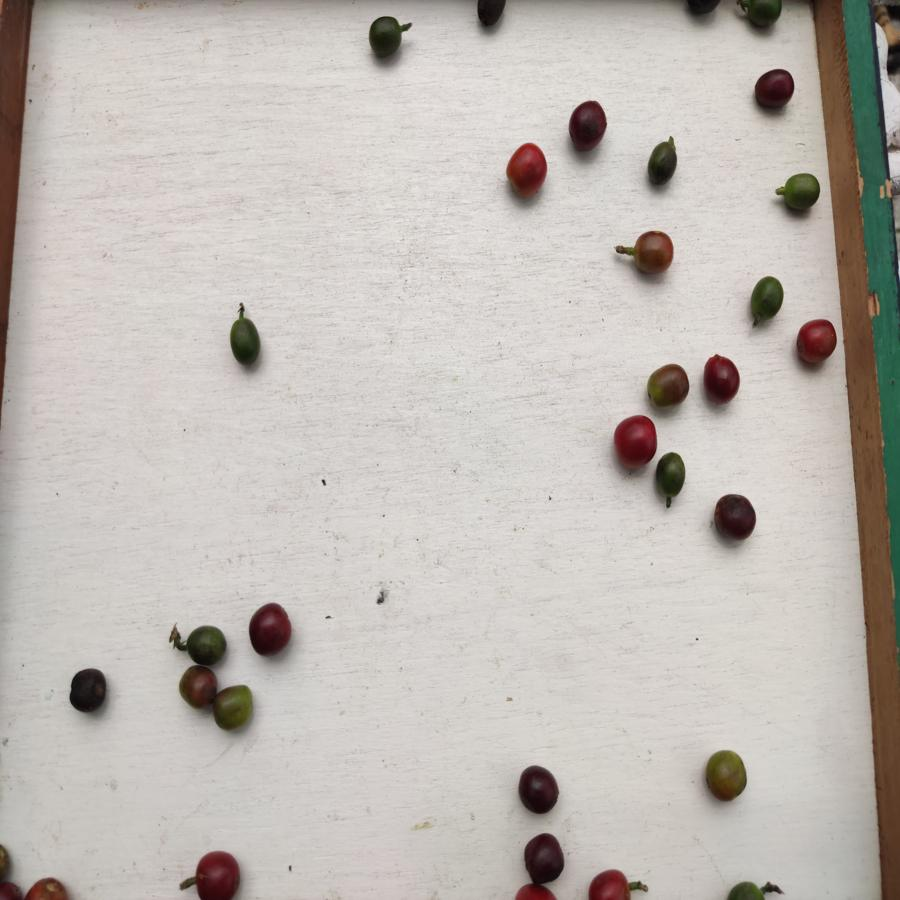Inmaduro: (747, 273, 787, 322), (183, 625, 229, 667), (228, 318, 264, 367), (366, 15, 405, 59), (783, 172, 824, 213), (656, 451, 688, 498), (645, 140, 679, 183), (739, 1, 785, 29), (724, 879, 785, 900)
Maduro: (503, 143, 549, 203), (612, 412, 657, 469), (194, 848, 243, 900), (792, 315, 838, 367), (587, 867, 632, 900), (22, 874, 71, 900)
Pinton: (705, 747, 747, 802), (630, 227, 677, 276), (644, 365, 690, 410), (214, 682, 257, 729), (178, 667, 216, 708)
Sobremaduro: (246, 601, 292, 658), (566, 98, 609, 157), (65, 667, 115, 716), (520, 832, 567, 884), (515, 763, 561, 815), (713, 491, 757, 542), (702, 352, 740, 408), (753, 64, 794, 115)
